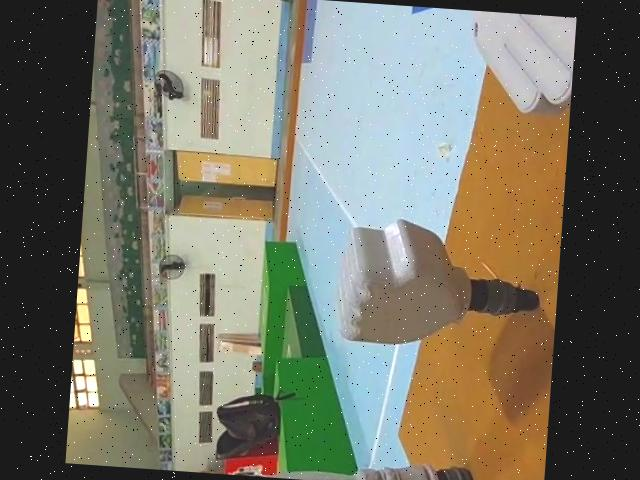Fist: (329, 219, 549, 356)
Hand: (456, 9, 577, 117)
Sph: (135, 440, 479, 480)
